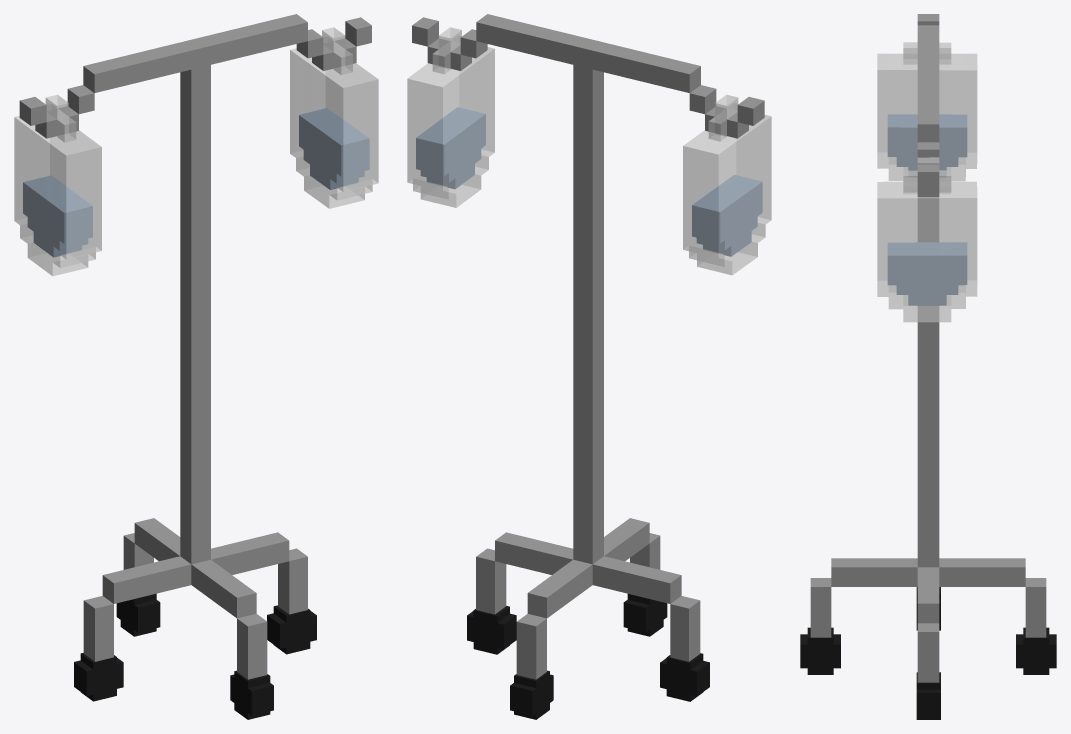
The model's file is Dextrose.fbx.
3 views of the same model, side by side, from view 1: azimuth 30°, elevation 25°; view 2: azimuth 150°, elevation 25°; view 3: azimuth 270°, elevation 25° (orthographic). The views are drawn at different scales.
Parts seen in each view (by area): view 1: Holder; view 2: Holder; view 3: Holder.
Boxes of the visible parts, left/top/right/bottom form: Holder: left=14, top=14, right=378, bottom=719; Holder: left=407, top=14, right=771, bottom=719; Holder: left=800, top=14, right=1056, bottom=719.
Size of the model in its own units: 316 by 555 by 217.
